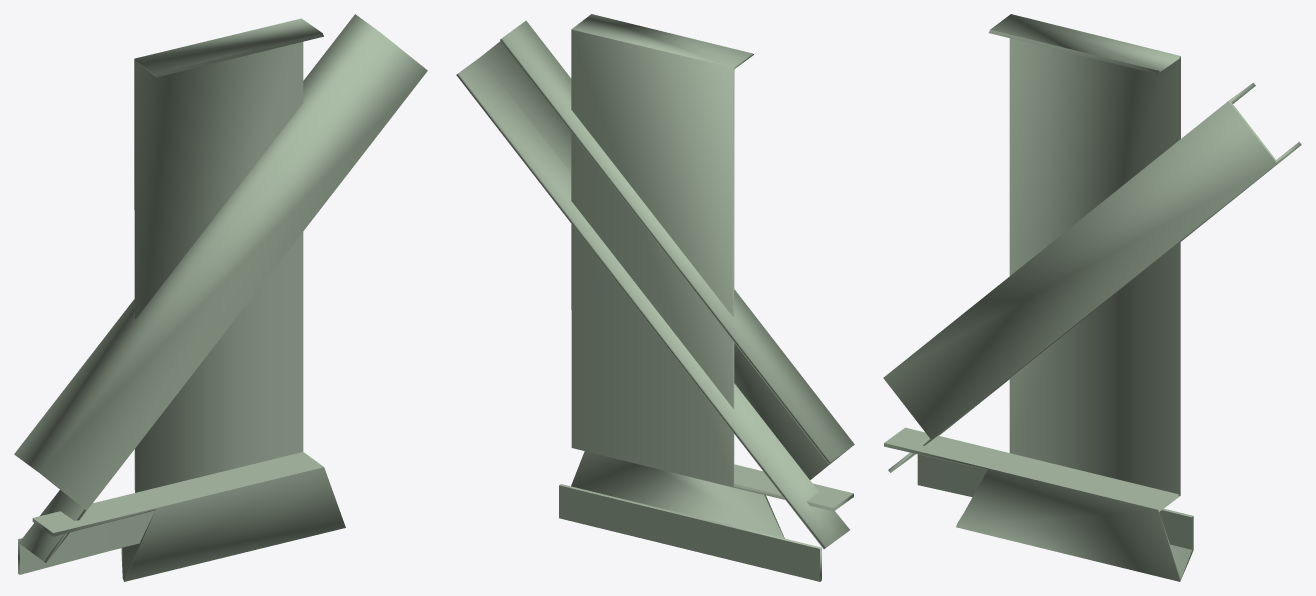
Rendered from BoxPartical1.fbx.
The picture shows the model from 3 angles, left to right: view 1: azimuth 30°, elevation 25°; view 2: azimuth 150°, elevation 25°; view 3: azimuth 330°, elevation 25°; orthographic projection. The views are drawn at different scales.
Parts seen in each view (by area): view 1: crate_02; view 2: crate_02; view 3: crate_02.
Part boxes in pixels (bbox=[...]): crate_02: bbox=[14, 14, 427, 581]; crate_02: bbox=[456, 14, 854, 581]; crate_02: bbox=[883, 14, 1301, 581].
Bounding box in the file's own units: 1.12 × 1.38 × 0.1766.
